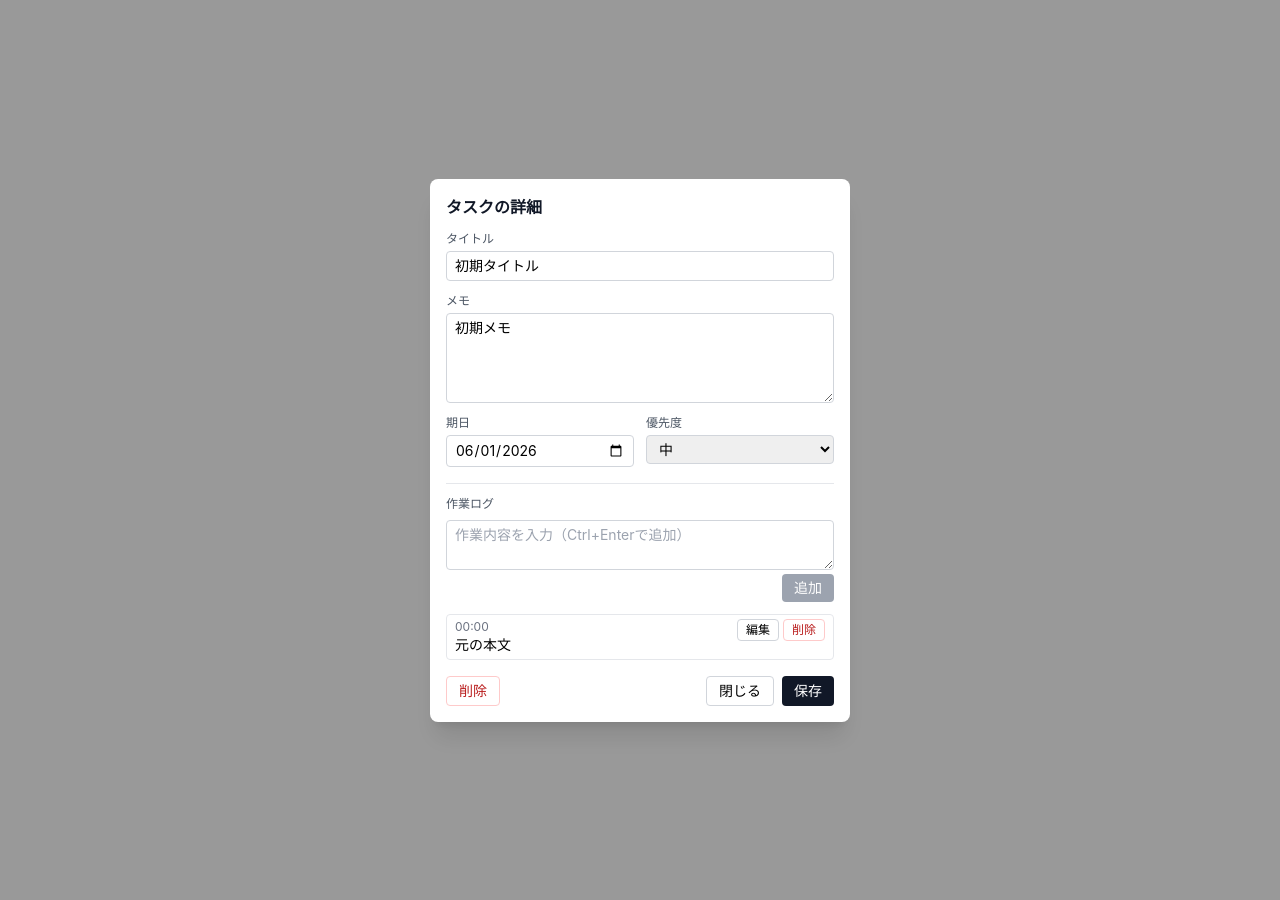
Scenario: TaskDetailDialog 作業ログ: 編集と削除 › キャンセルで元の本文表示に戻る
Click the button "編集": (758, 630) [737,618,779,640]
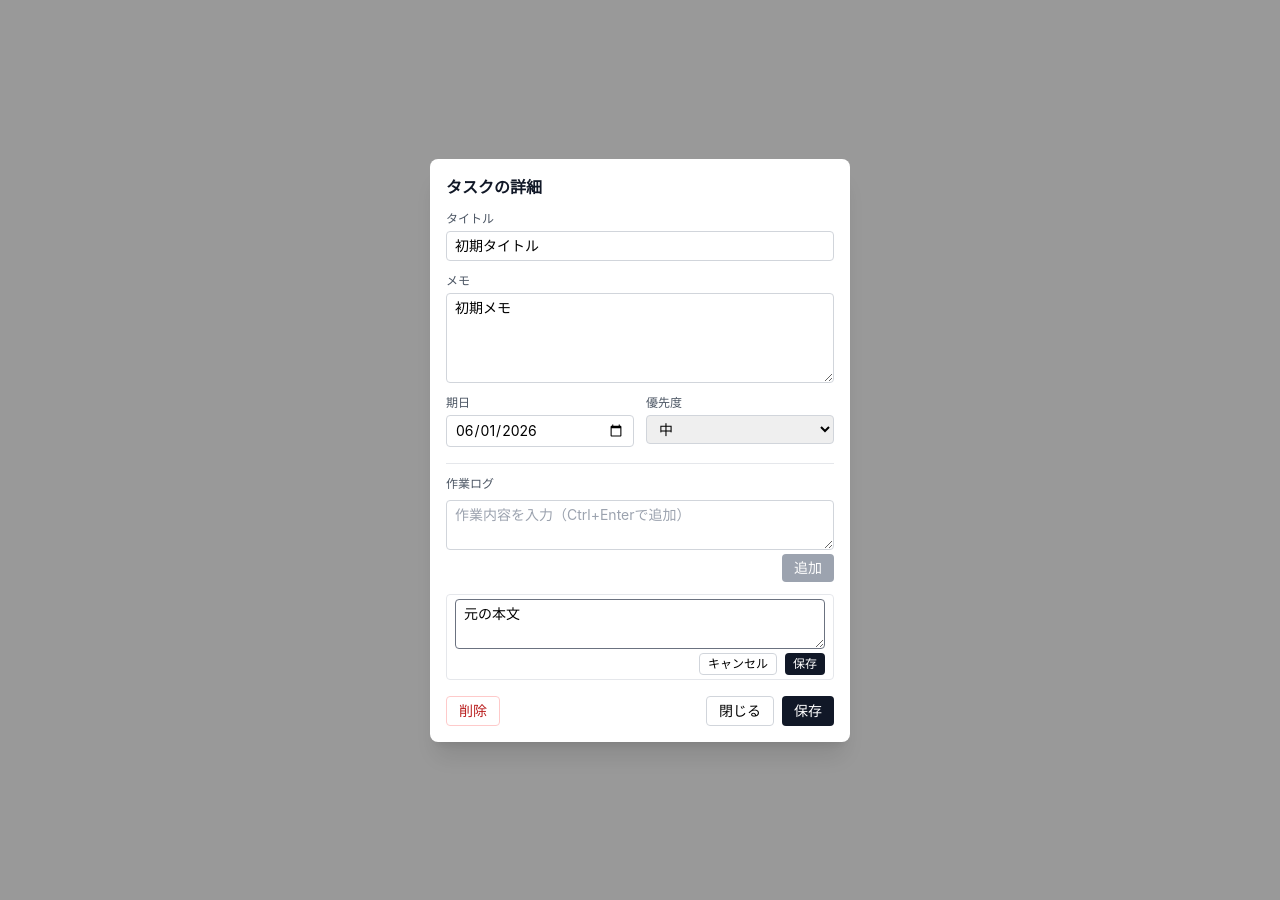
Replace the text in the text box named "作業ログを編集" with "変更中": (640, 624) [455,598,825,648]
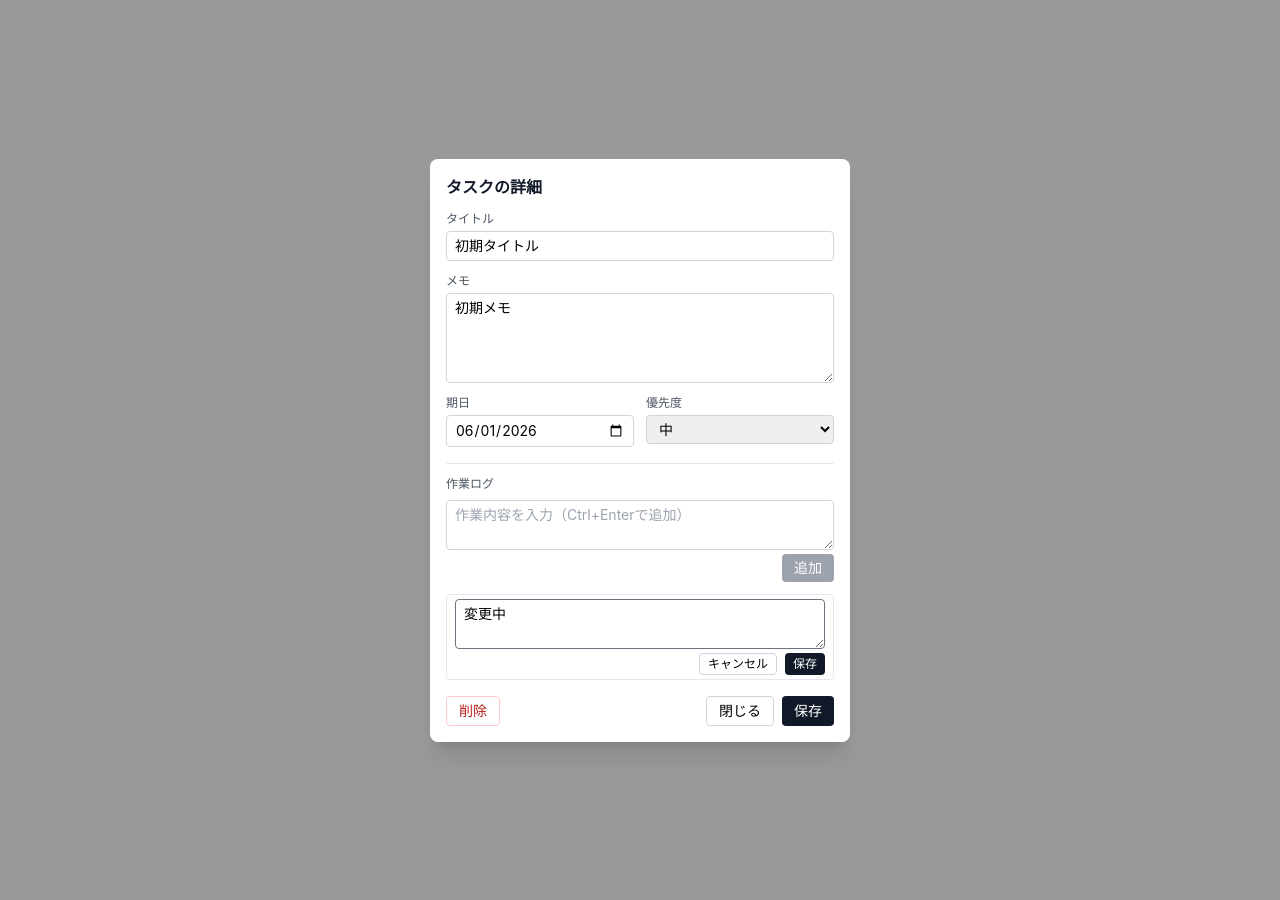
Click the button "キャンセル": (738, 664) [699,652,777,674]
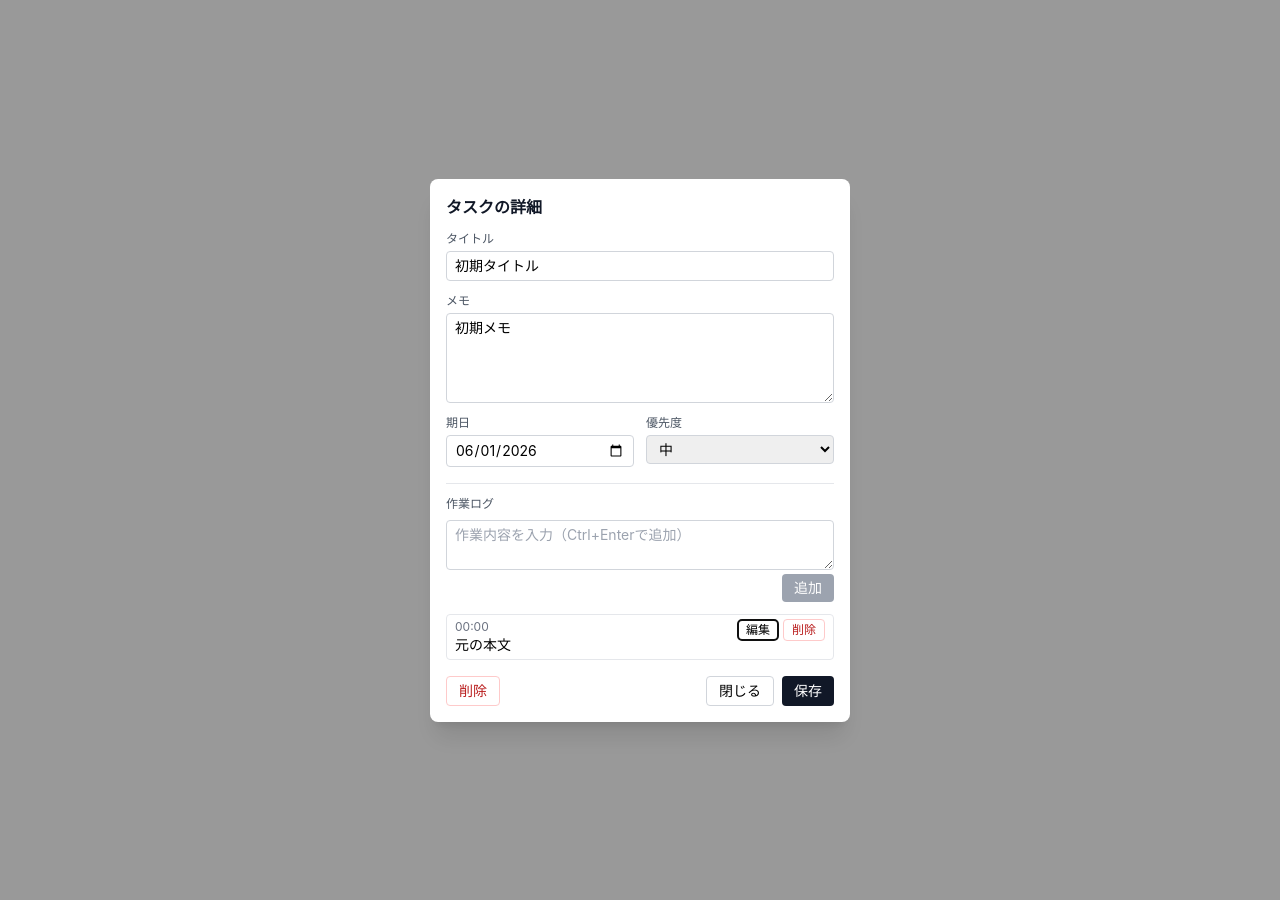
Check: the text box labelled "作業ログを編集" is gone
Check: the text with test id "worklog-body-L1" reads "元の本文", box [455,636,511,652]
